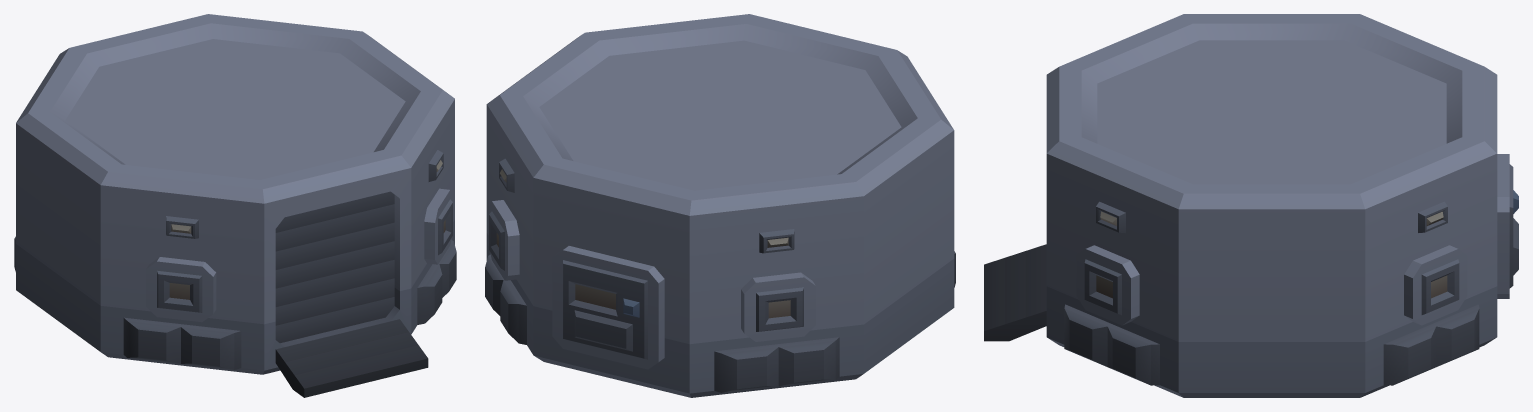
File: basemodule_garage.glb
3 renders of one model, left to right at view 1: azimuth 30°, elevation 25°; view 2: azimuth 150°, elevation 25°; view 3: azimuth 270°, elevation 25°, orthographic. The views are drawn at different scales.
Parts seen in each view (by area): view 1: basemodule_garage, basemodule_garage_door; view 2: basemodule_garage; view 3: basemodule_garage.
Part boxes in pixels (x1=…): basemodule_garage: x1=14, y1=14, x2=456, y2=397; basemodule_garage_door: x1=275, y1=191, x2=394, y2=343; basemodule_garage: x1=485, y1=14, x2=955, y2=397; basemodule_garage: x1=984, y1=14, x2=1518, y2=397.
Bounding box in the file's own units: 2 × 1 × 2.37.
1 material, 1 textured.
